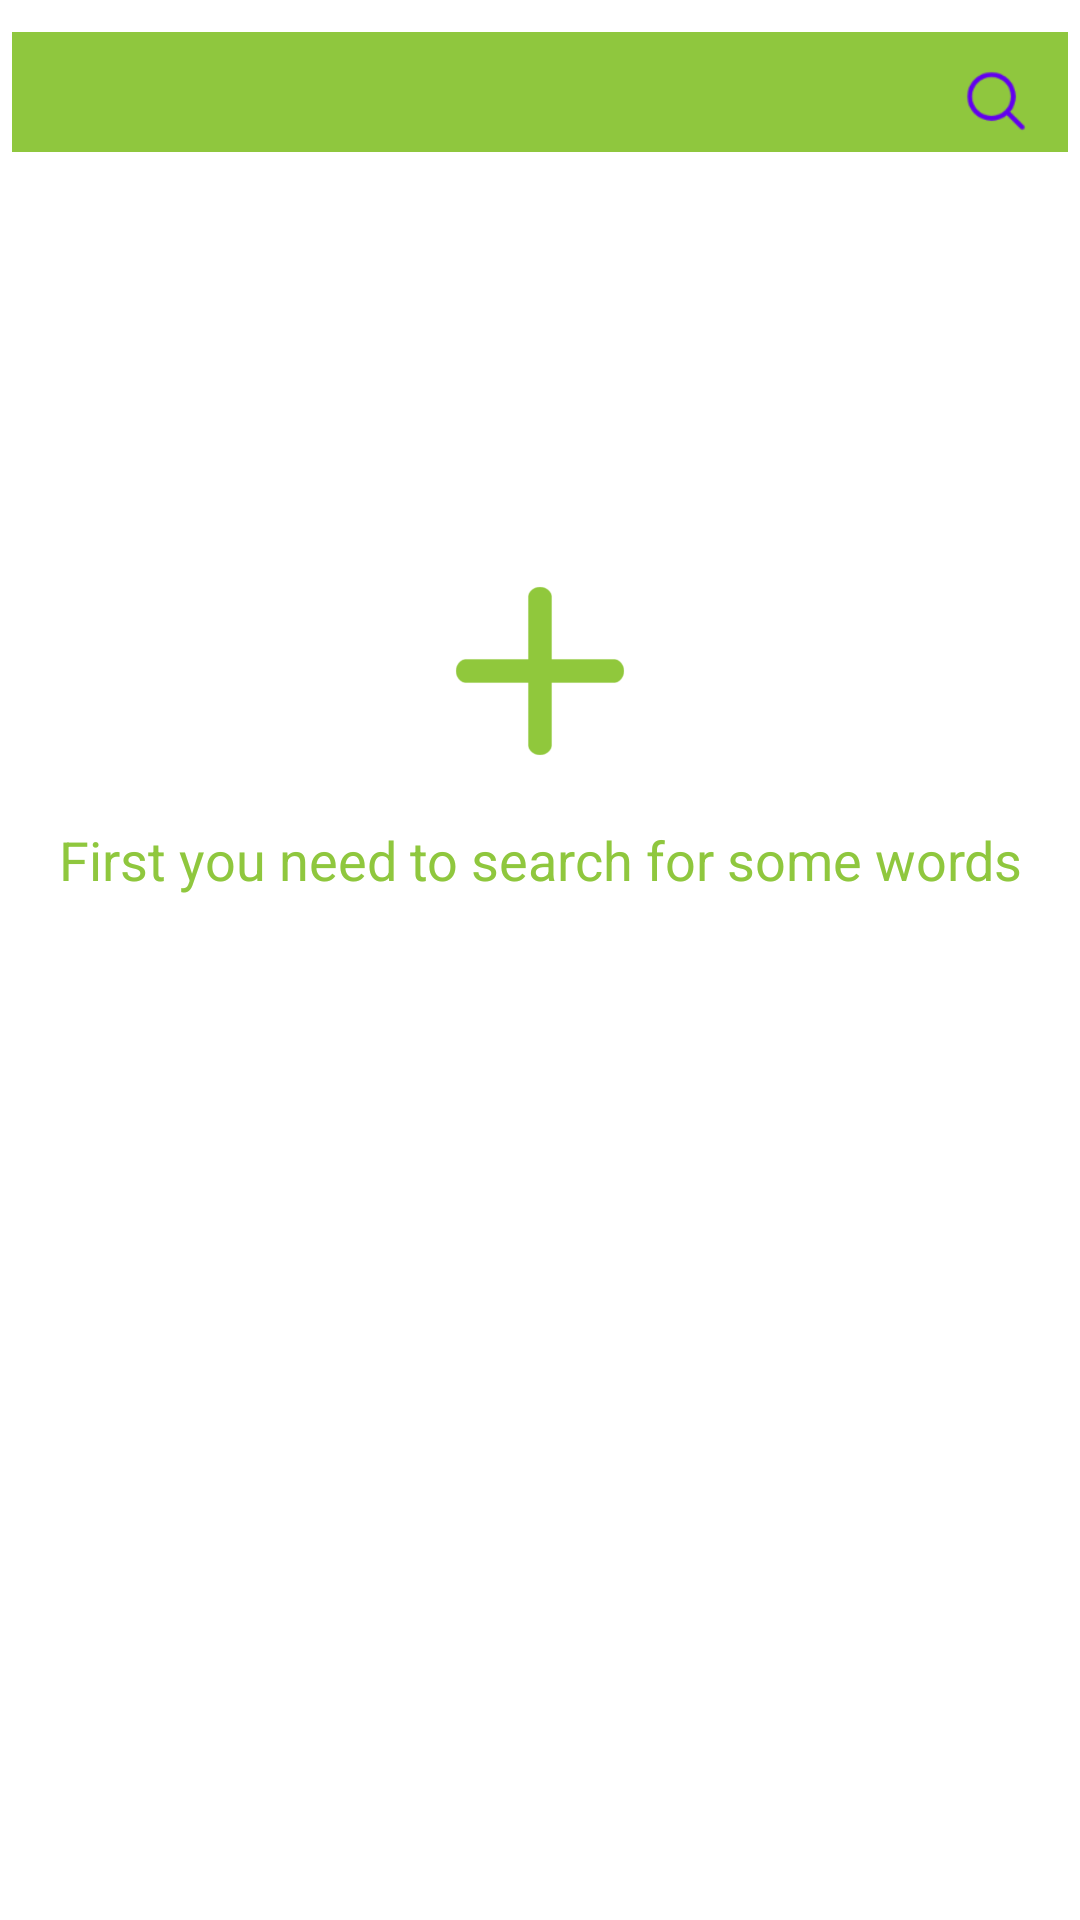

Where icons sit on this 1080px x 1920px app screen, as (x1, y1, x2, y2):
add: (456, 587, 624, 755)
